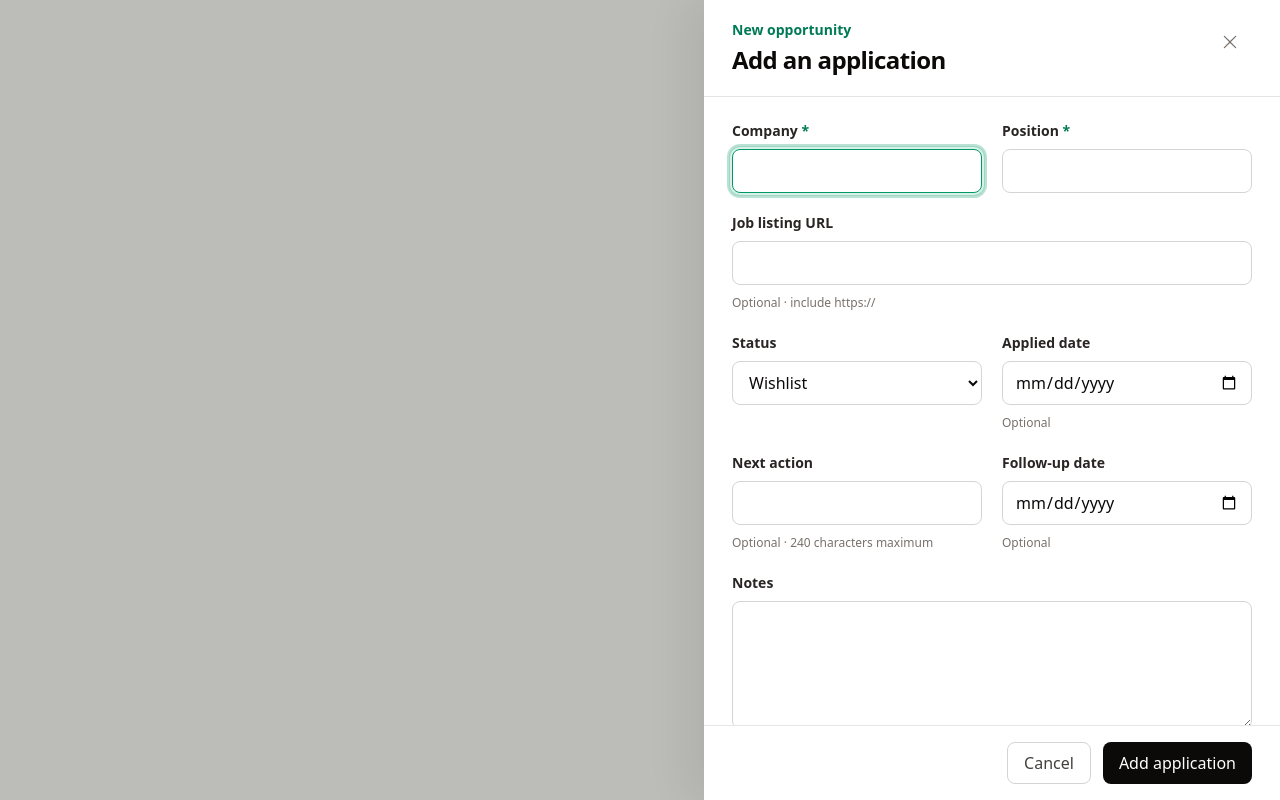
Test: ApplicationFormPanel › shows client field errors before submitting
What coordinates should you click on to do the following:
click the button "Add application"
I would click on:
 (1177, 763)
Its box is [1103,742,1252,784].
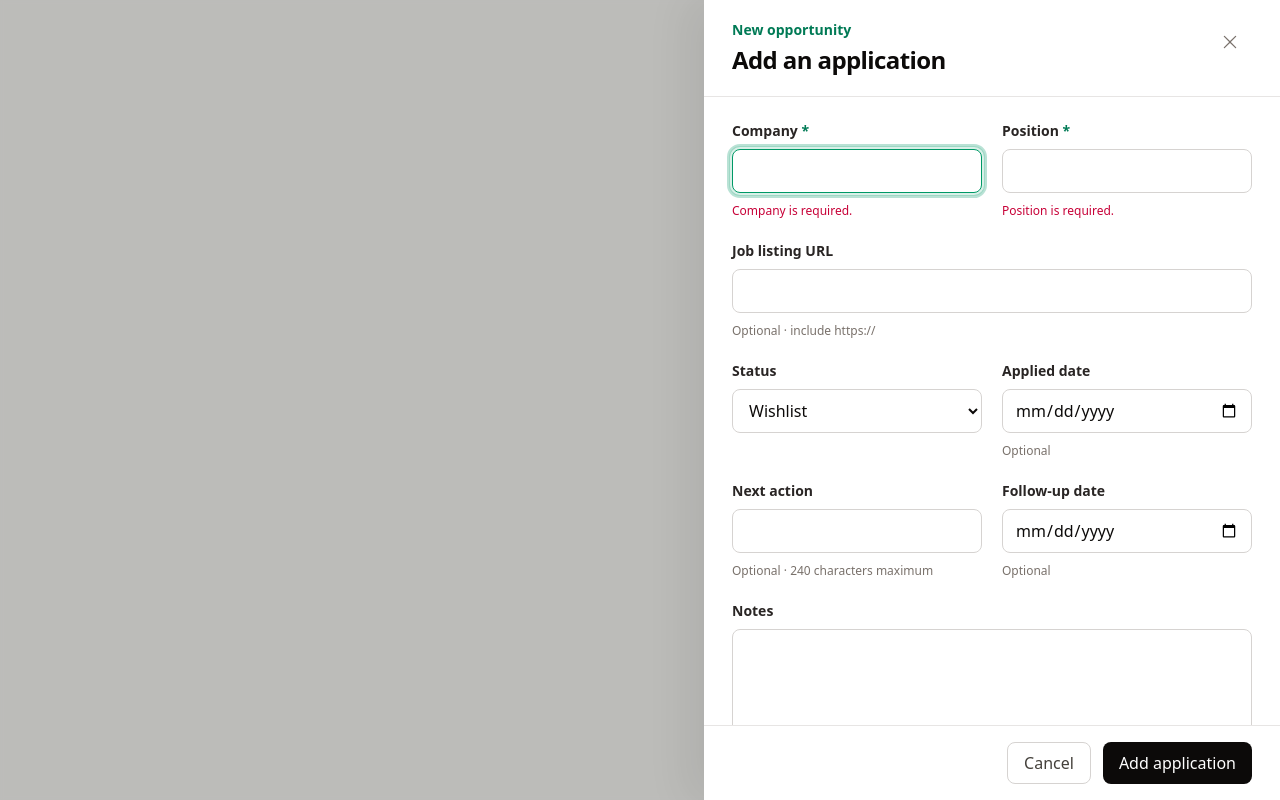
Expected: the text "Company is required." is shown, [732,202,852,219]
Expected: the text "Position is required." is shown, [1002,202,1114,219]
